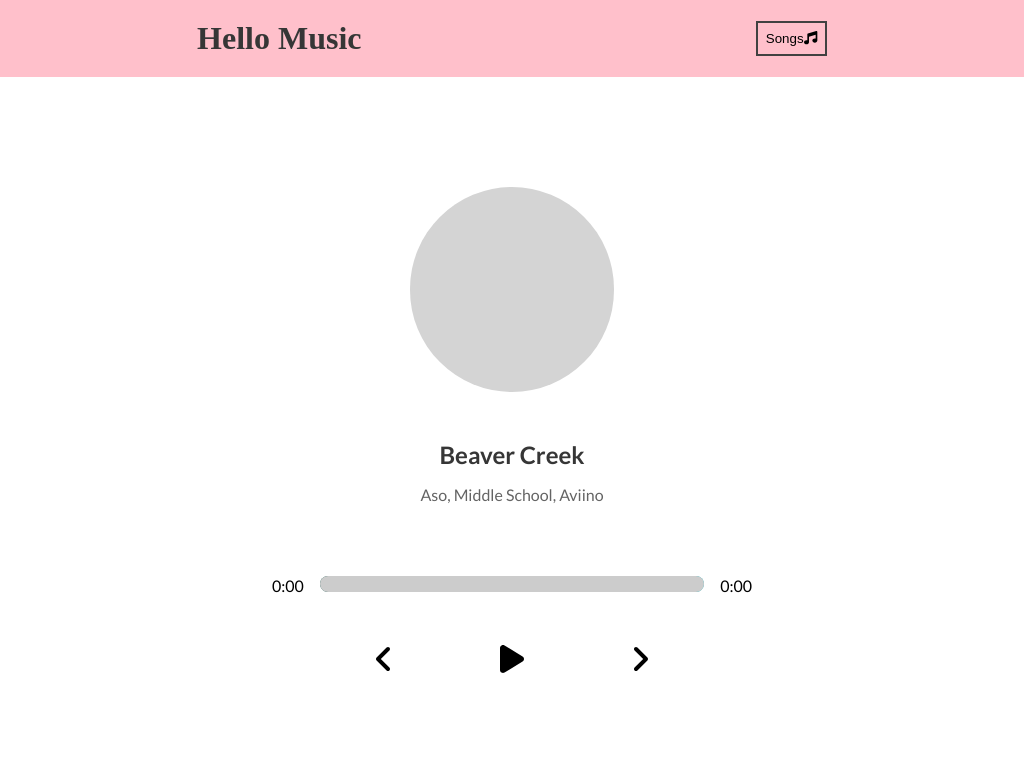
Music Player App › should display the library when libraryStatus is true or the button is clicked
The width and height of the screenshot is (1024, 768).
Click the button with class "btn-library".
click(792, 39)  # box [756, 21, 827, 56]
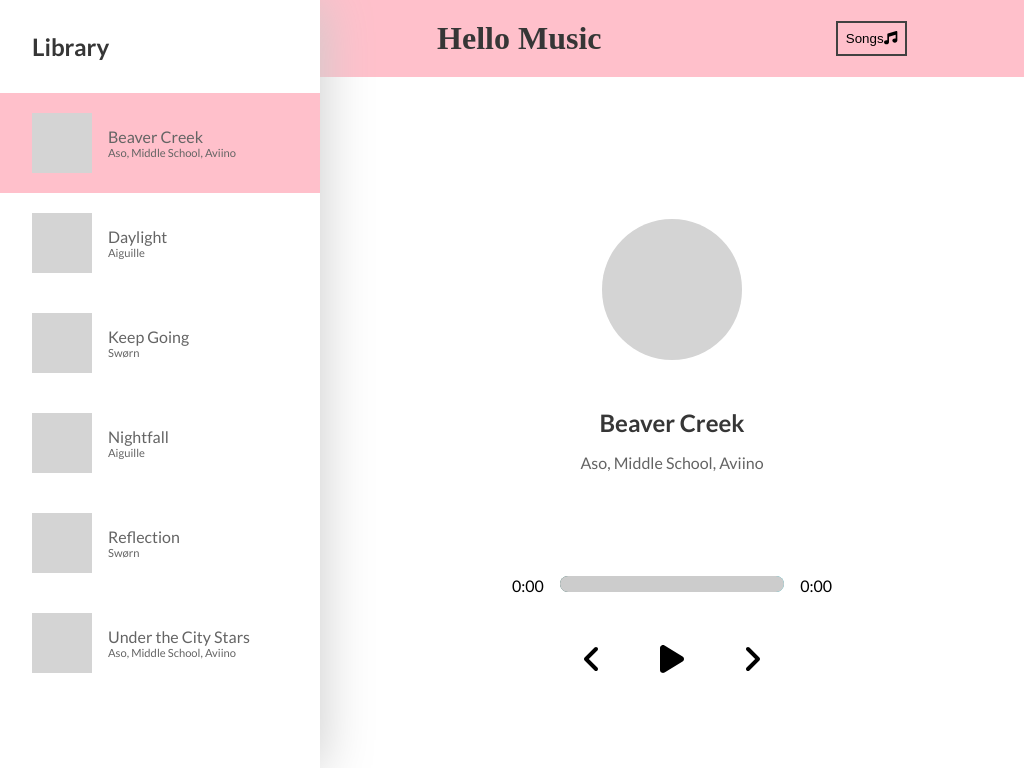
Check: the element with class "library-container" is shown, box [0, 0, 320, 767]
